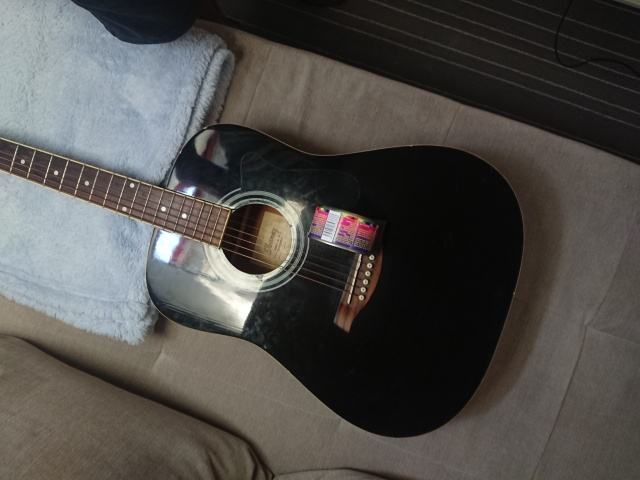Giana Tuna Salad Mexico 185g: (306, 202, 381, 258)
